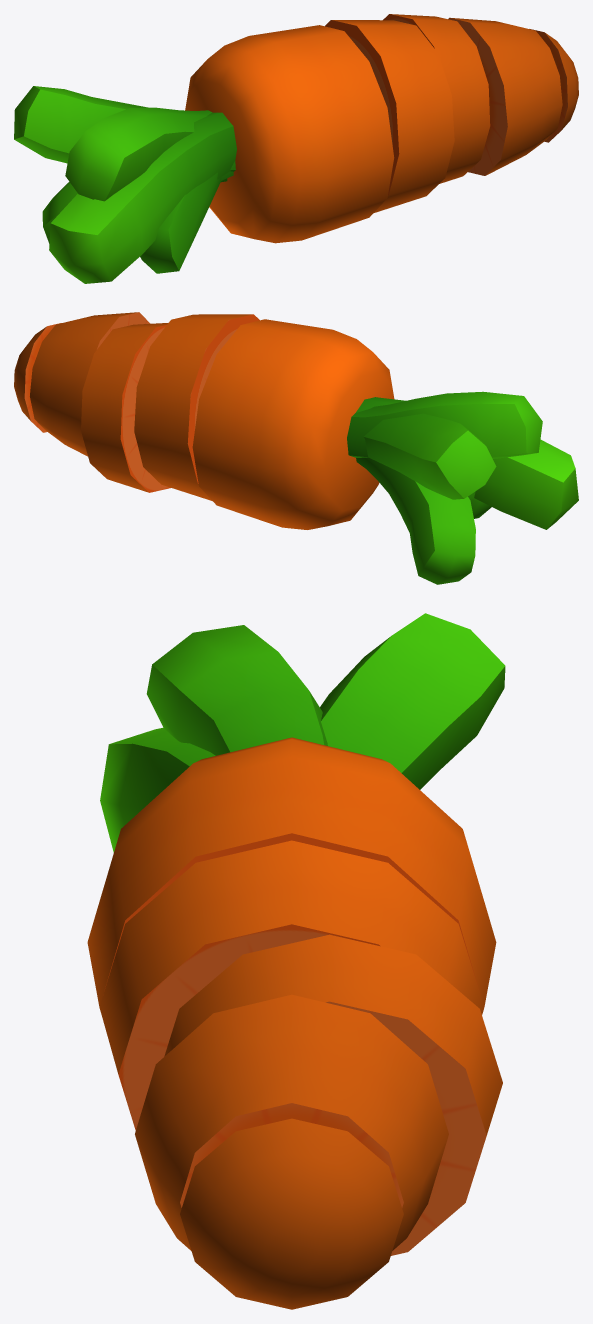
Rendered from Carrot_S4.fbx.
The picture shows the model from 3 angles, top to bottom: view 1: azimuth 30°, elevation 25°; view 2: azimuth 150°, elevation 25°; view 3: azimuth 270°, elevation 25°; orthographic projection. The views are drawn at different scales.
Parts seen in each view (by area): view 1: Carrot_S4; view 2: Carrot_S4; view 3: Carrot_S4.
Part boxes in pixels (bbox=[...]): Carrot_S4: bbox=[14, 14, 578, 283]; Carrot_S4: bbox=[14, 312, 578, 584]; Carrot_S4: bbox=[87, 613, 505, 1309].
Size of the model in its own units: 108 by 36.65 by 37.47.
